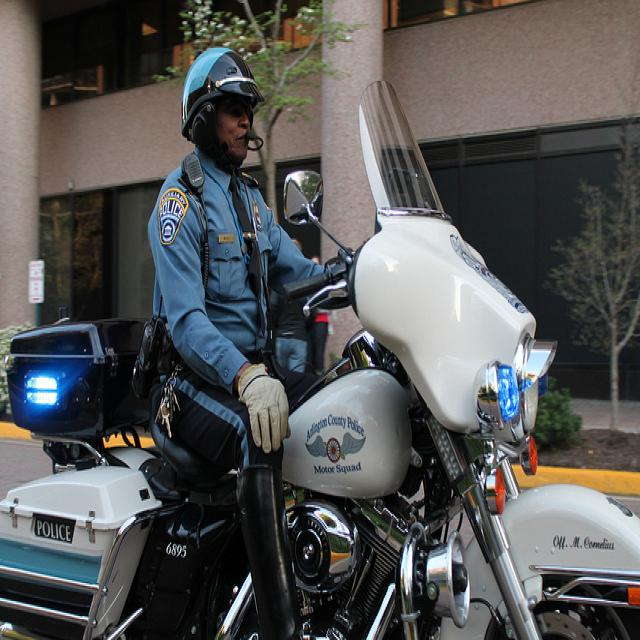motor: (0, 75, 640, 633)
